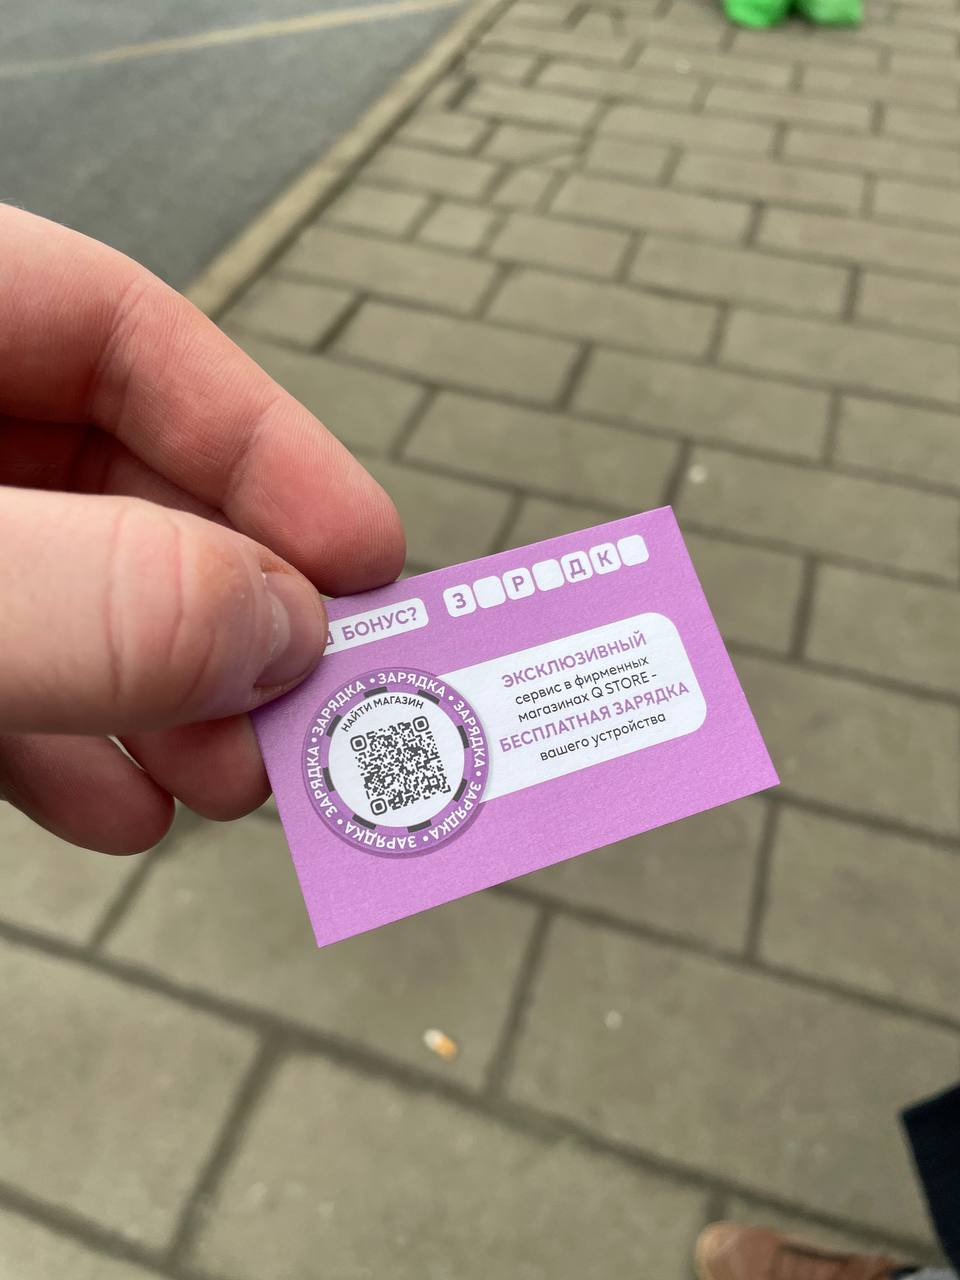2d: (347, 714, 452, 818)
